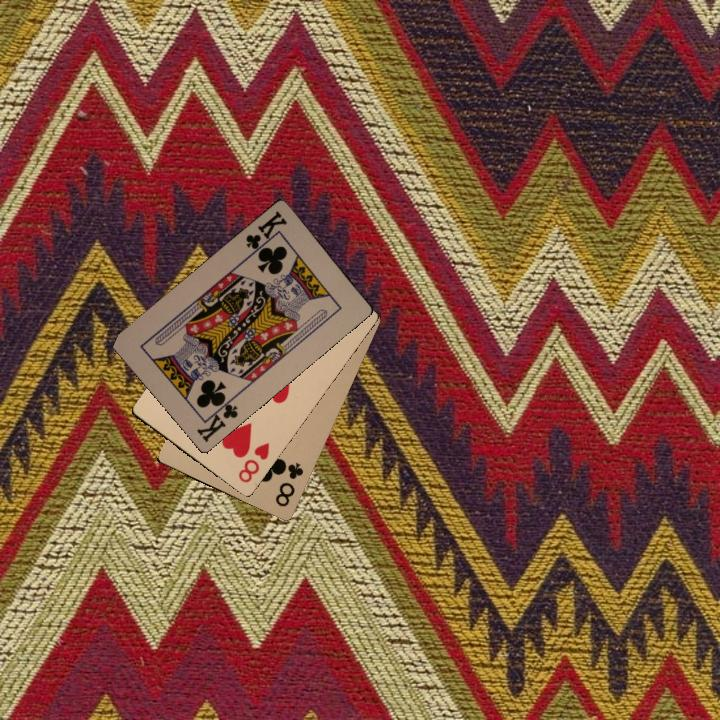8c: (271, 459, 306, 509)
8h: (234, 438, 272, 485)
Kc: (241, 207, 290, 257), (193, 394, 241, 444)
